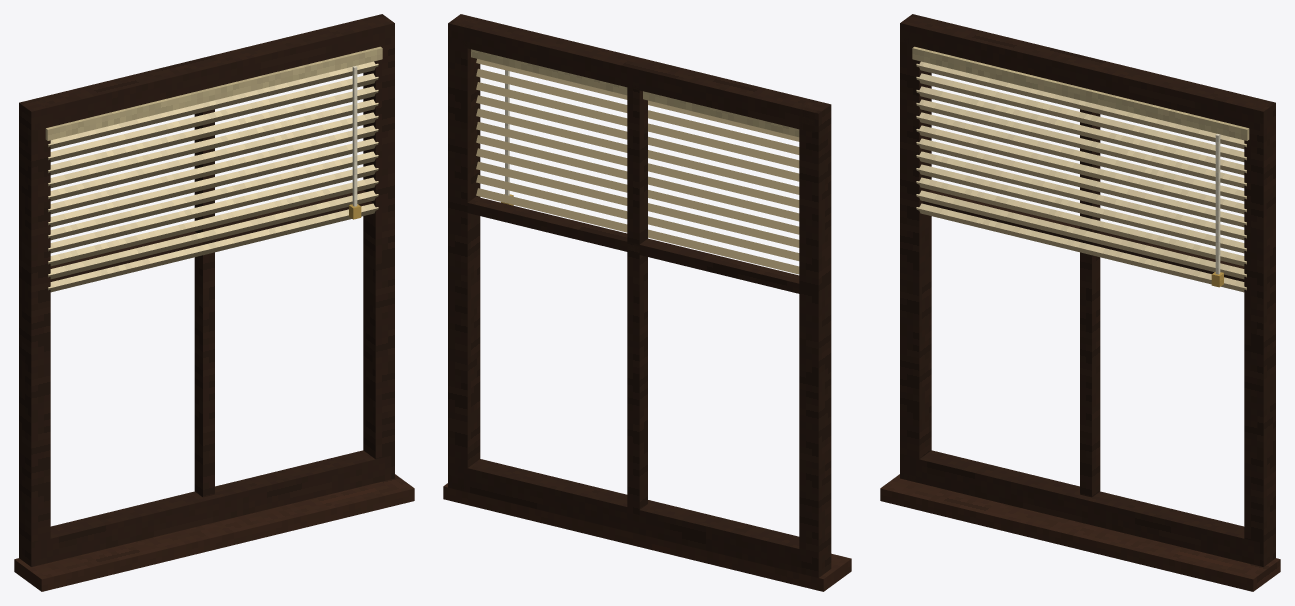
Rendered from window.glb.
3 views of the same model, side by side, from view 1: azimuth 30°, elevation 25°; view 2: azimuth 150°, elevation 25°; view 3: azimuth 330°, elevation 25° (orthographic).
Parts seen in each view (by area): view 1: window; view 2: window; view 3: window.
Boxes of the visible parts, box(x1,y1,x2,y2) form: window: box(14, 14, 414, 591); window: box(443, 14, 851, 591); window: box(880, 14, 1280, 591).
Bounding box in the file's own units: 1.95 × 2.34 × 0.25.
1 material, 1 textured.
